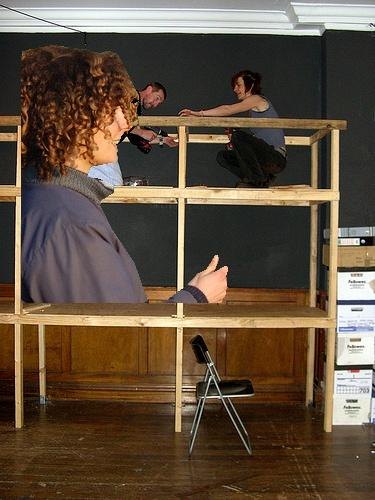tampered: (22, 46, 228, 303)
